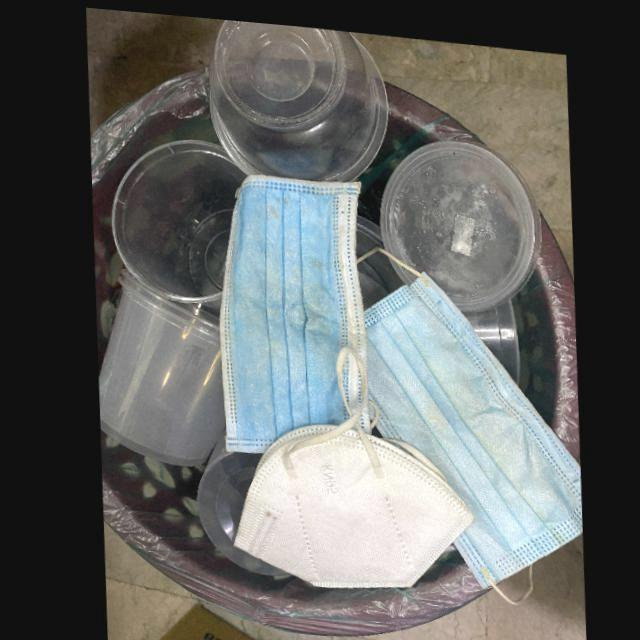plastic_container: (208, 16, 388, 176), (377, 132, 540, 304), (94, 265, 220, 463), (109, 136, 245, 299), (191, 447, 285, 571)
